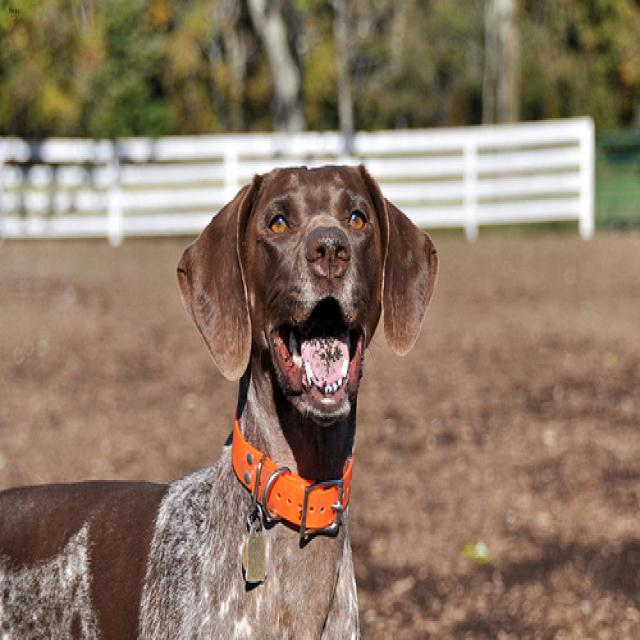dog-german_shorthaired: (1, 150, 444, 636)
